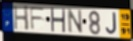8: (88, 9, 102, 36)
F: (29, 6, 47, 31)
H: (13, 6, 30, 32), (50, 7, 66, 34)
J: (105, 12, 118, 36)
N: (67, 8, 84, 34)
